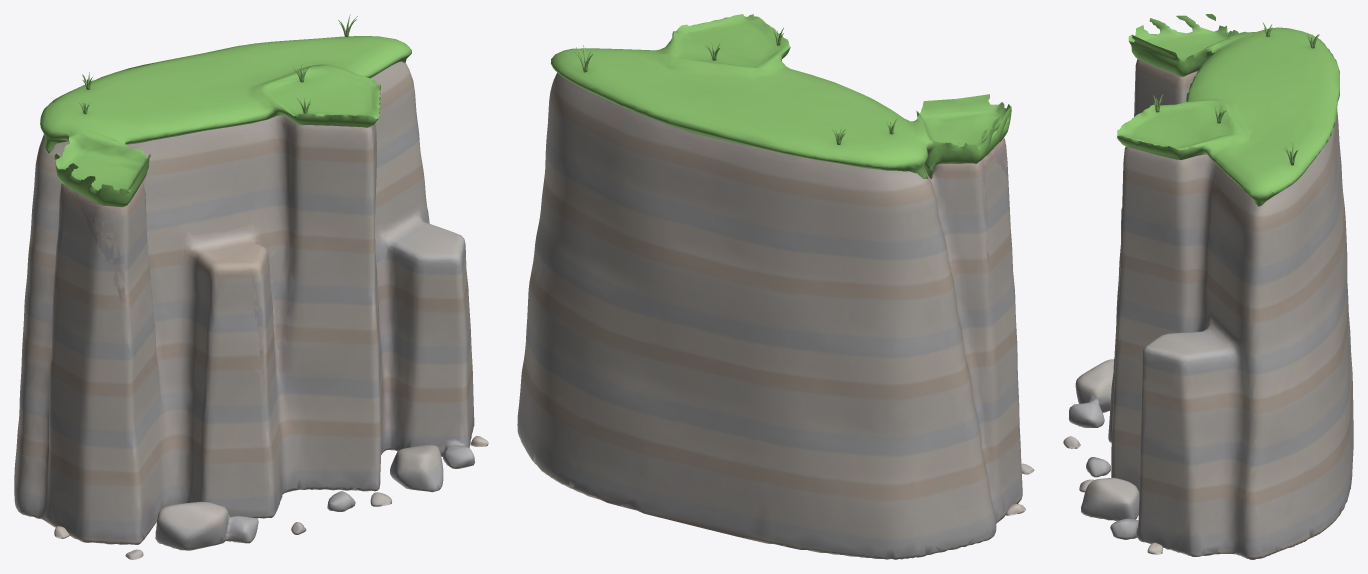
The model's file is cliff-face.glb.
3 renders of one model, left to right at view 1: azimuth 30°, elevation 25°; view 2: azimuth 150°, elevation 25°; view 3: azimuth 270°, elevation 25°, orthographic. The views are drawn at different scales.
Visible parts, largest first — view 1: cliff-face_body; view 2: cliff-face_body; view 3: cliff-face_body.
Boxes of the visible parts, <box> form: cliff-face_body: <box>14,14,488,559</box>; cliff-face_body: <box>517,14,1034,559</box>; cliff-face_body: <box>1063,14,1353,559</box>.
Bounding box in the file's own units: 6.01 × 5.13 × 3.59.
Materials: 1 (1 with a texture image).
